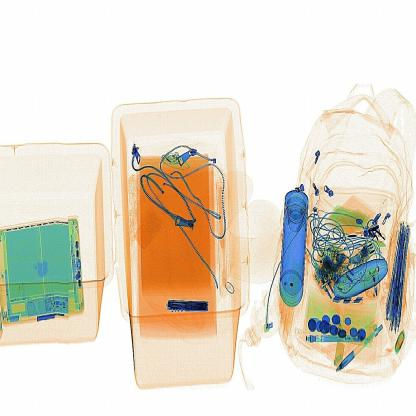scissors: (167, 296, 213, 315)
